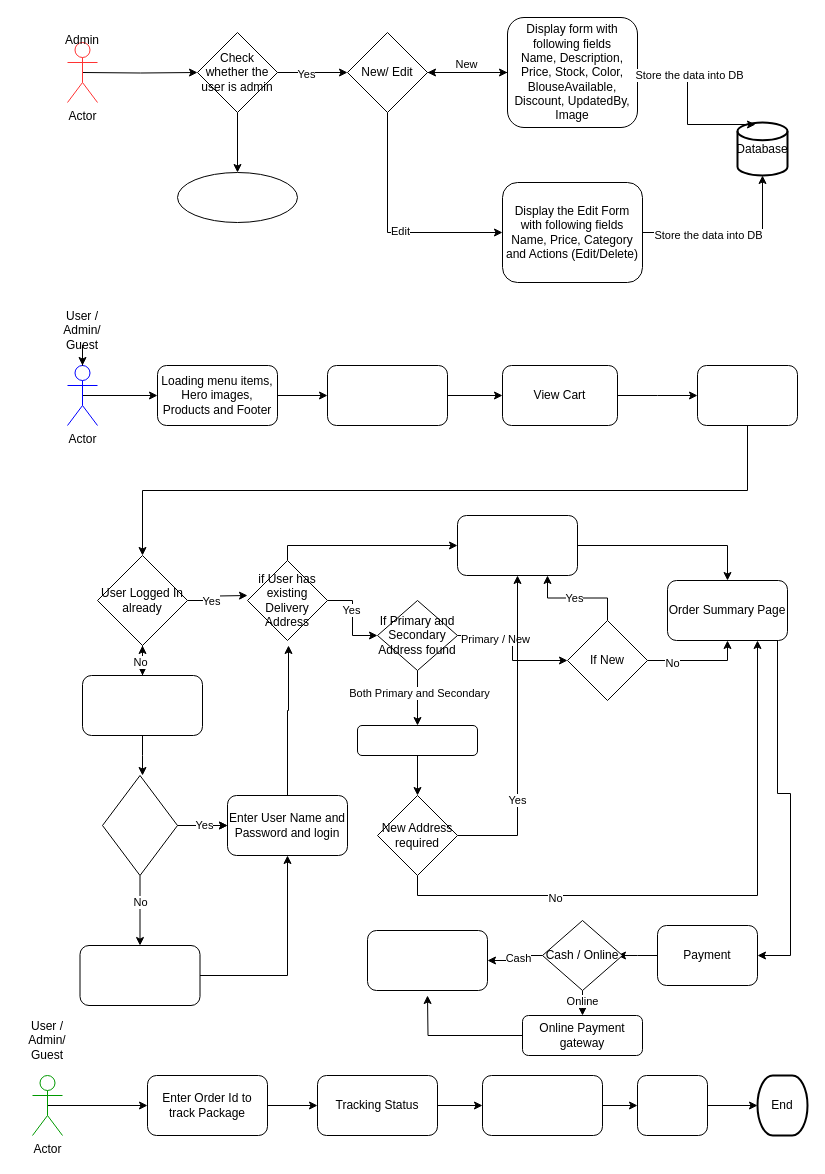
The diagram is 825 pixels wide and 1174 high, and some of its shapes have lost their labels. Here are the shapes that lost their labels. From the top down, the box of each, then its label:
(176, 172, 298, 222): Unauthorized
(326, 364, 448, 426): Add Products into Cart
(696, 364, 798, 426): Proceed to CheckOut
(456, 514, 578, 576): Form to enter Delivery address
(82, 674, 202, 736): Prompt for User Login
(356, 724, 478, 756): Display the address to choose and New
(102, 774, 178, 876): If existing user
(79, 944, 200, 1006): Sign Up User
(366, 930, 488, 990): Order Placed
(482, 1074, 602, 1136): Payment Completed and Delivers the product
(636, 1074, 708, 1136): Feeedback
